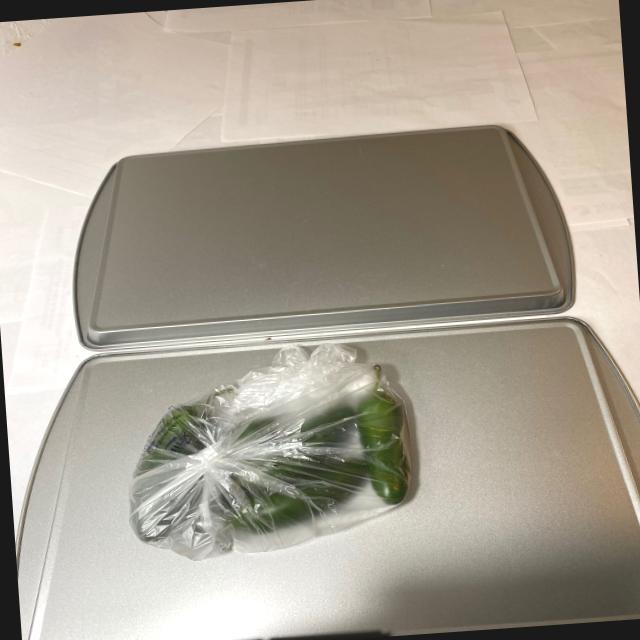chilli: (120, 360, 423, 558)
